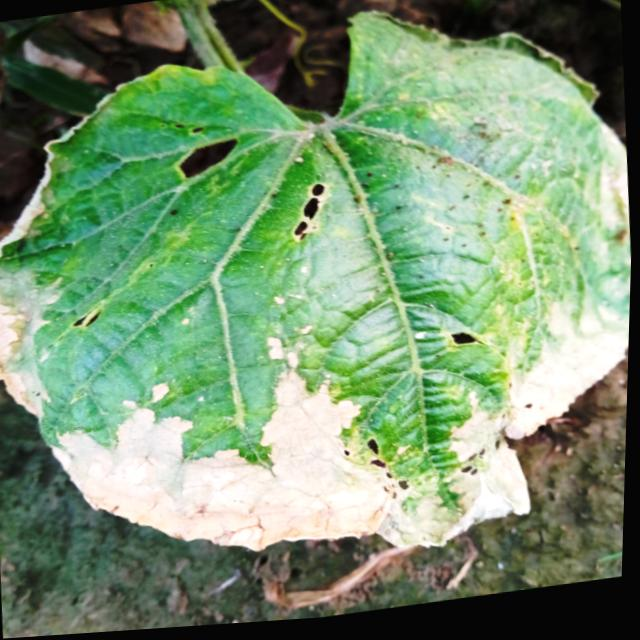Gummy-Stem-Blight: (51, 298, 629, 555), (0, 264, 65, 418)
